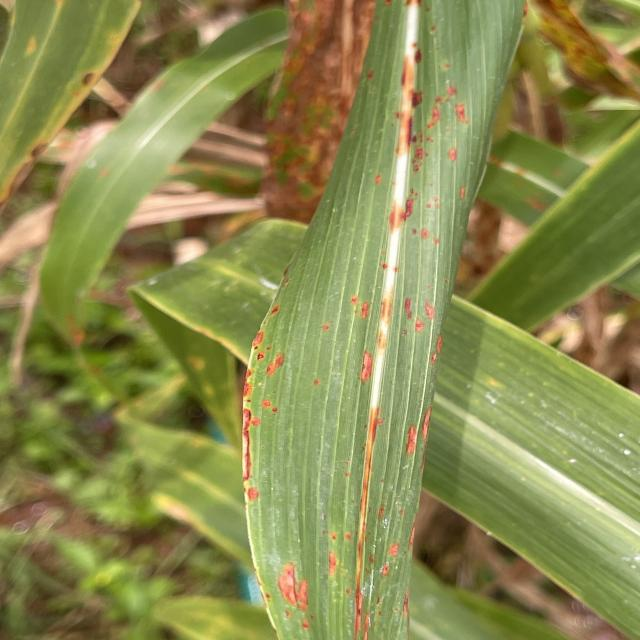millet_healthy: (135, 219, 640, 640), (457, 116, 640, 336)
millet_rust: (246, 3, 518, 640), (40, 13, 284, 341), (0, 0, 140, 195), (273, 0, 379, 222)
